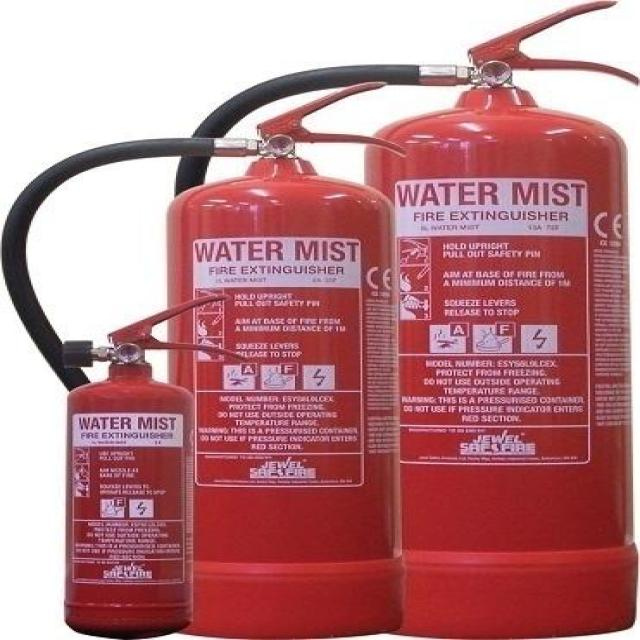fire_extinguisher: (164, 0, 638, 639), (0, 76, 414, 639), (50, 288, 250, 639)
